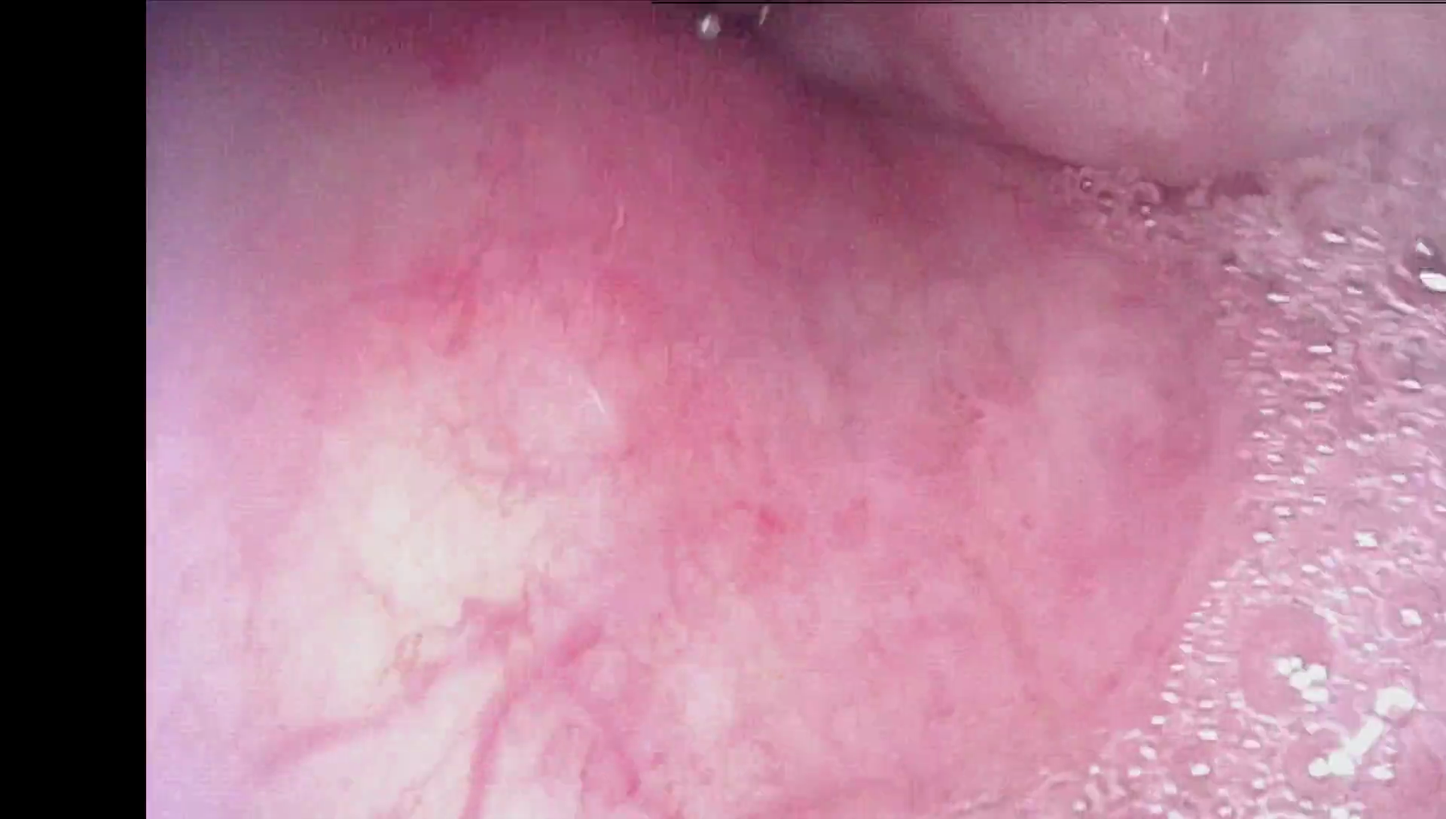close_wall: (151, 132, 992, 819)
